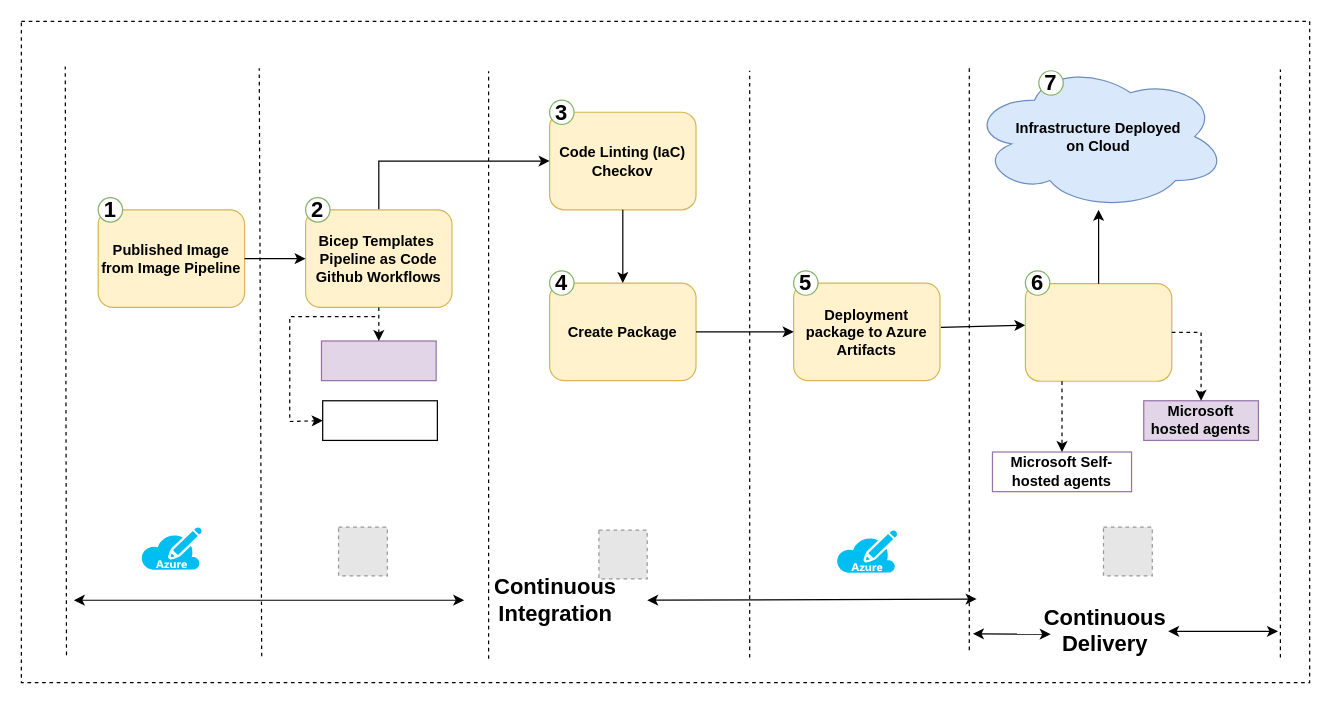
The diagram is 1331 pixels wide and 704 high, and some of its shapes have lost their labels. Grey dashed boxes stand in for pictures. The shapes that lost their labels are listed below. From the top down, each one's centre as x and y in pixels, then its label:
At (x=1098, y=331): "Azure Devops Pipeline".
At (x=378, y=360): "Github Hosted runners".
At (x=379, y=420): "Github Self-Hosted runners".
